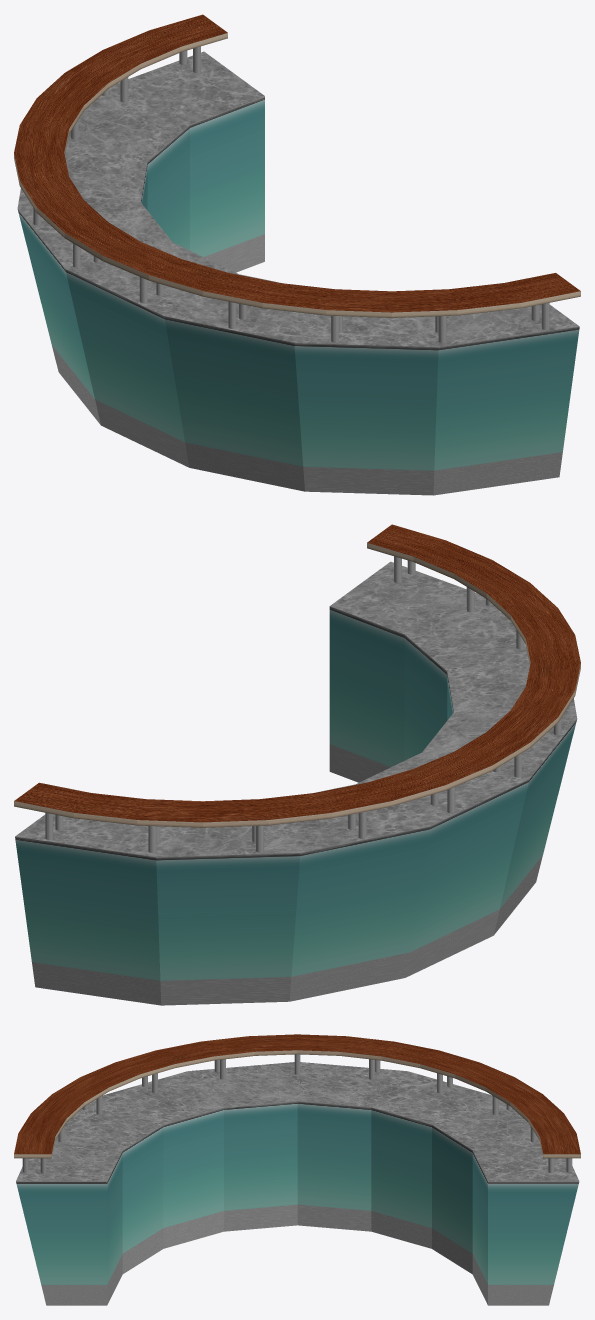
Rendered from Bar2.fbx.
3 renders of one model, top to bottom at view 1: azimuth 30°, elevation 25°; view 2: azimuth 150°, elevation 25°; view 3: azimuth 270°, elevation 25°, orthographic. The views are drawn at different scales.
Visible parts, largest first — view 1: Empty_Mesh; view 2: Empty_Mesh; view 3: Empty_Mesh.
Boxes of the visible parts, x1,y1,x2,y2 form: Empty_Mesh: [14, 14, 580, 495]; Empty_Mesh: [14, 524, 580, 1005]; Empty_Mesh: [14, 1034, 580, 1305].
Bounding box in the file's own units: 208 × 123 × 417.
